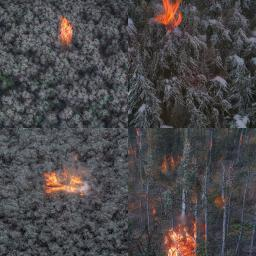Small fire: (38, 154, 106, 207), (152, 196, 210, 255), (150, 0, 199, 45), (42, 7, 81, 58)
